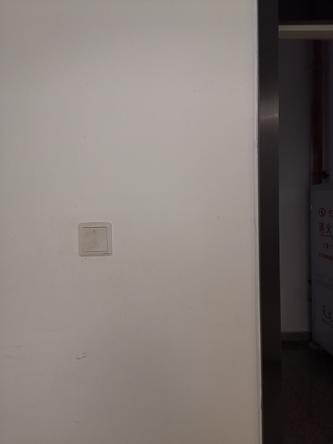switch: (77, 223, 113, 256)
